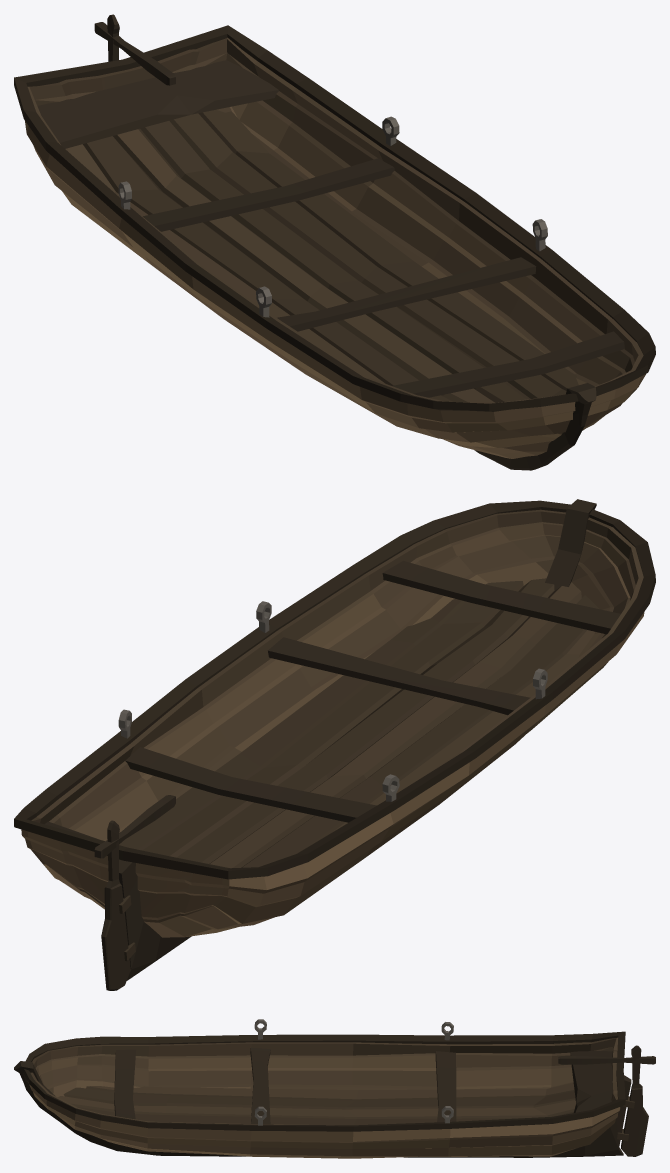
File: SM_Veh_Boat_Small_01_Hull_Pirate.glb
3 renders of one model, top to bottom at view 1: azimuth 30°, elevation 25°; view 2: azimuth 150°, elevation 25°; view 3: azimuth 270°, elevation 25°, orthographic. The views are drawn at different scales.
Parts seen in each view (by area): view 1: SM_Veh_Boat_Small_01_Hull_Pirate; view 2: SM_Veh_Boat_Small_01_Hull_Pirate; view 3: SM_Veh_Boat_Small_01_Hull_Pirate.
Part boxes in pixels (x1,y1,x2,y2): SM_Veh_Boat_Small_01_Hull_Pirate: [14, 14, 655, 470]; SM_Veh_Boat_Small_01_Hull_Pirate: [14, 499, 655, 990]; SM_Veh_Boat_Small_01_Hull_Pirate: [14, 1019, 655, 1158].
Size of the model in its own units: 0.0288 by 0.0163 by 0.085.
